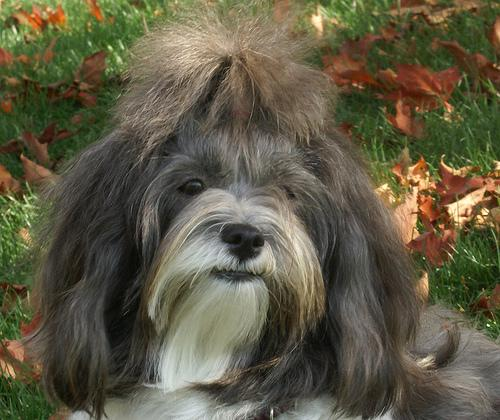dog-havanese: (41, 110, 411, 399)
